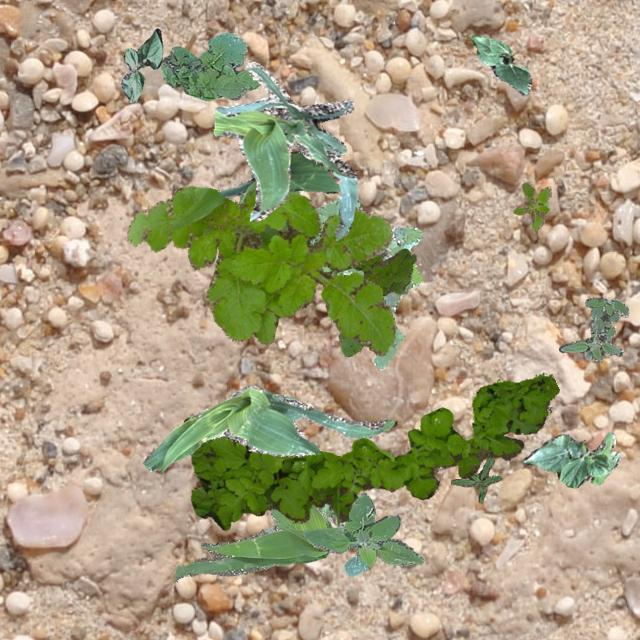crop: (212, 61, 356, 240), (142, 384, 396, 472), (216, 150, 340, 202), (522, 432, 618, 486), (470, 34, 530, 94), (120, 28, 162, 102), (320, 502, 348, 526)
weed: (188, 374, 558, 528), (126, 184, 394, 354), (308, 195, 422, 368), (172, 460, 330, 580), (302, 492, 422, 574), (338, 248, 416, 356), (160, 32, 258, 100), (558, 296, 628, 362), (450, 456, 500, 502), (512, 182, 550, 228), (288, 188, 298, 194)
